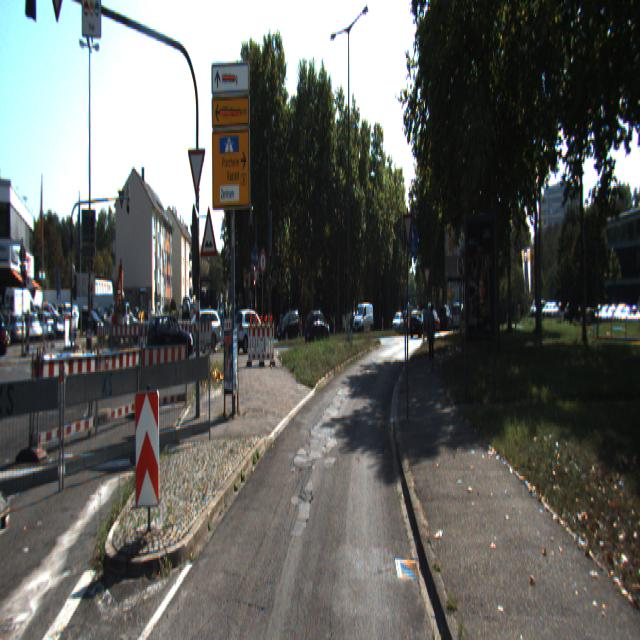Car: (233, 308, 268, 354), (304, 307, 331, 345), (354, 302, 374, 338)
